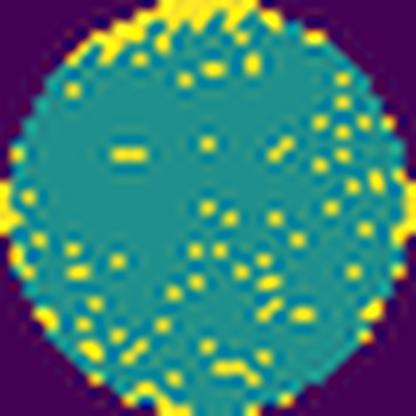Edge-Loc: (58, 0, 288, 77), (387, 183, 415, 251), (0, 176, 25, 233)
